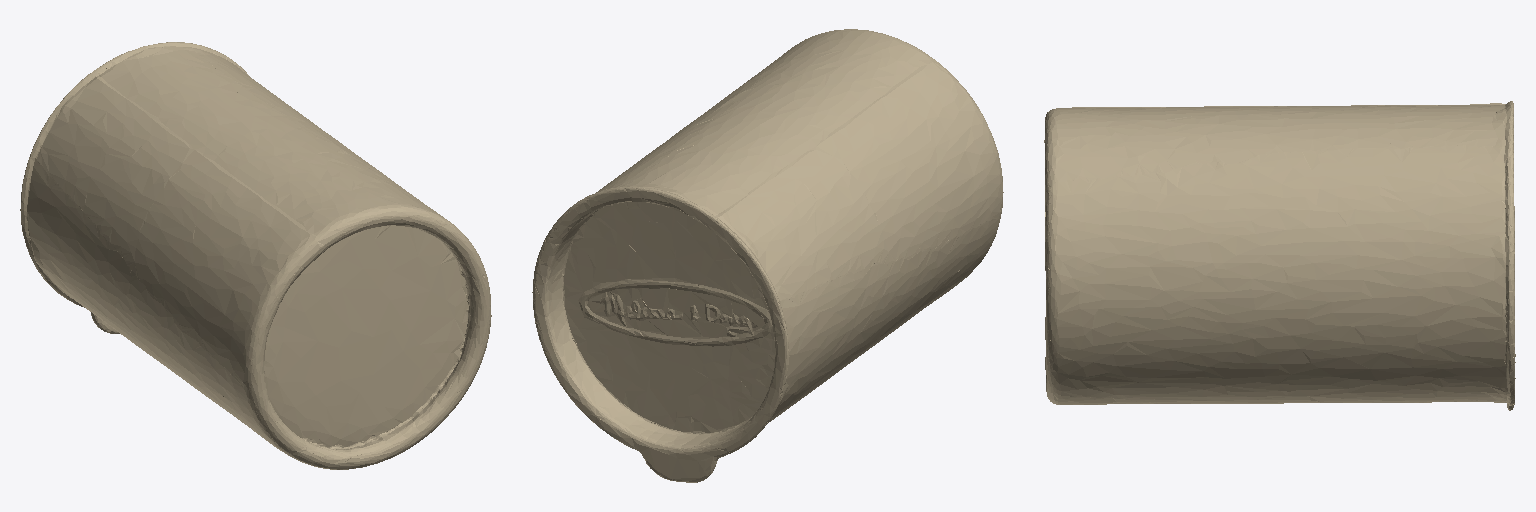
The robot description file, URDF, robot "object_171735388712249":
<?xml version="1.0"?>
<!-- Auto-generated by convert_assets.py from objects/171735388712249.
     Inertial: density 800.0 kg/m^3, raw mass 0.259193 kg clamped to 0.259193 kg (inertia scaled to match). -->
<robot name="object_171735388712249">
  <link name="baseLink">
    <inertial>
      <origin rpy="0 0 0" xyz="0.00262969956 0.0500676533 -0.0010164403"/>
      <mass value="0.259193389"/>
      <inertia ixx="0.000271215903" ixy="9.70455195e-07" ixz="-8.67035553e-08" iyy="0.000143898825" iyz="-4.92782607e-07" izz="0.000270752672"/>
    </inertial>
    <visual>
      <origin rpy="0 0 0" xyz="0 0 0"/>
      <geometry><mesh filename="../visual.obj" scale="1.0 1.0 1.0"/></geometry>
      <material name="mat"><color rgba="0.75 0.7 0.6 1"/></material>
    </visual>
    <collision name="collision_0">
      <origin rpy="0 0 0" xyz="0 0 0"/>
      <geometry><mesh filename="../convex/0.obj" scale="1.0 1.0 1.0"/></geometry>
    </collision>
    <collision name="collision_1">
      <origin rpy="0 0 0" xyz="0 0 0"/>
      <geometry><mesh filename="../convex/1.obj" scale="1.0 1.0 1.0"/></geometry>
    </collision>
    <collision name="collision_2">
      <origin rpy="0 0 0" xyz="0 0 0"/>
      <geometry><mesh filename="../convex/2.obj" scale="1.0 1.0 1.0"/></geometry>
    </collision>
    <collision name="collision_3">
      <origin rpy="0 0 0" xyz="0 0 0"/>
      <geometry><mesh filename="../convex/3.obj" scale="1.0 1.0 1.0"/></geometry>
    </collision>
    <collision name="collision_4">
      <origin rpy="0 0 0" xyz="0 0 0"/>
      <geometry><mesh filename="../convex/4.obj" scale="1.0 1.0 1.0"/></geometry>
    </collision>
    <collision name="collision_5">
      <origin rpy="0 0 0" xyz="0 0 0"/>
      <geometry><mesh filename="../convex/5.obj" scale="1.0 1.0 1.0"/></geometry>
    </collision>
    <collision name="collision_6">
      <origin rpy="0 0 0" xyz="0 0 0"/>
      <geometry><mesh filename="../convex/6.obj" scale="1.0 1.0 1.0"/></geometry>
    </collision>
    <collision name="collision_7">
      <origin rpy="0 0 0" xyz="0 0 0"/>
      <geometry><mesh filename="../convex/7.obj" scale="1.0 1.0 1.0"/></geometry>
    </collision>
    <collision name="collision_8">
      <origin rpy="0 0 0" xyz="0 0 0"/>
      <geometry><mesh filename="../convex/8.obj" scale="1.0 1.0 1.0"/></geometry>
    </collision>
    <collision name="collision_9">
      <origin rpy="0 0 0" xyz="0 0 0"/>
      <geometry><mesh filename="../convex/9.obj" scale="1.0 1.0 1.0"/></geometry>
    </collision>
    <collision name="collision_10">
      <origin rpy="0 0 0" xyz="0 0 0"/>
      <geometry><mesh filename="../convex/10.obj" scale="1.0 1.0 1.0"/></geometry>
    </collision>
    <collision name="collision_11">
      <origin rpy="0 0 0" xyz="0 0 0"/>
      <geometry><mesh filename="../convex/11.obj" scale="1.0 1.0 1.0"/></geometry>
    </collision>
    <collision name="collision_12">
      <origin rpy="0 0 0" xyz="0 0 0"/>
      <geometry><mesh filename="../convex/12.obj" scale="1.0 1.0 1.0"/></geometry>
    </collision>
    <collision name="collision_13">
      <origin rpy="0 0 0" xyz="0 0 0"/>
      <geometry><mesh filename="../convex/13.obj" scale="1.0 1.0 1.0"/></geometry>
    </collision>
    <collision name="collision_14">
      <origin rpy="0 0 0" xyz="0 0 0"/>
      <geometry><mesh filename="../convex/14.obj" scale="1.0 1.0 1.0"/></geometry>
    </collision>
    <collision name="collision_15">
      <origin rpy="0 0 0" xyz="0 0 0"/>
      <geometry><mesh filename="../convex/15.obj" scale="1.0 1.0 1.0"/></geometry>
    </collision>
    <collision name="collision_16">
      <origin rpy="0 0 0" xyz="0 0 0"/>
      <geometry><mesh filename="../convex/16.obj" scale="1.0 1.0 1.0"/></geometry>
    </collision>
    <collision name="collision_17">
      <origin rpy="0 0 0" xyz="0 0 0"/>
      <geometry><mesh filename="../convex/17.obj" scale="1.0 1.0 1.0"/></geometry>
    </collision>
    <collision name="collision_18">
      <origin rpy="0 0 0" xyz="0 0 0"/>
      <geometry><mesh filename="../convex/18.obj" scale="1.0 1.0 1.0"/></geometry>
    </collision>
    <collision name="collision_19">
      <origin rpy="0 0 0" xyz="0 0 0"/>
      <geometry><mesh filename="../convex/19.obj" scale="1.0 1.0 1.0"/></geometry>
    </collision>
    <collision name="collision_20">
      <origin rpy="0 0 0" xyz="0 0 0"/>
      <geometry><mesh filename="../convex/20.obj" scale="1.0 1.0 1.0"/></geometry>
    </collision>
    <collision name="collision_21">
      <origin rpy="0 0 0" xyz="0 0 0"/>
      <geometry><mesh filename="../convex/21.obj" scale="1.0 1.0 1.0"/></geometry>
    </collision>
    <collision name="collision_22">
      <origin rpy="0 0 0" xyz="0 0 0"/>
      <geometry><mesh filename="../convex/22.obj" scale="1.0 1.0 1.0"/></geometry>
    </collision>
    <collision name="collision_23">
      <origin rpy="0 0 0" xyz="0 0 0"/>
      <geometry><mesh filename="../convex/23.obj" scale="1.0 1.0 1.0"/></geometry>
    </collision>
    <collision name="collision_24">
      <origin rpy="0 0 0" xyz="0 0 0"/>
      <geometry><mesh filename="../convex/24.obj" scale="1.0 1.0 1.0"/></geometry>
    </collision>
    <collision name="collision_25">
      <origin rpy="0 0 0" xyz="0 0 0"/>
      <geometry><mesh filename="../convex/25.obj" scale="1.0 1.0 1.0"/></geometry>
    </collision>
    <collision name="collision_26">
      <origin rpy="0 0 0" xyz="0 0 0"/>
      <geometry><mesh filename="../convex/26.obj" scale="1.0 1.0 1.0"/></geometry>
    </collision>
  </link>
</robot>

--- Facts derived from the render (not from the file) ---
Views: 3 orthographic renders of the robot side by side, from view 1: azimuth 30°, elevation 25°; view 2: azimuth 150°, elevation 25°; view 3: azimuth 270°, elevation 25°.
Model object_171735388712249 with 1 links and 0 joints (none), rooted at baseLink, posed all joints at 0.
Visible links, largest first — view 1: baseLink; view 2: baseLink; view 3: baseLink.
Boxes of the visible links, x1,y1,x2,y2 form: baseLink: [20, 42, 491, 469]; baseLink: [532, 29, 1003, 482]; baseLink: [1044, 101, 1515, 410].
Bounding box of the posed robot: 0.0664 × 0.1022 × 0.0711 m (x, y, z).
1 mesh visuals loaded from 1 distinct referenced files (1 OBJ).
